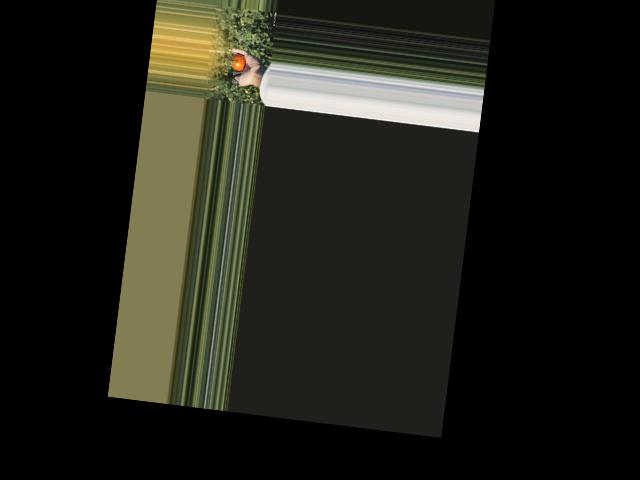tomato: (230, 52, 246, 70)
